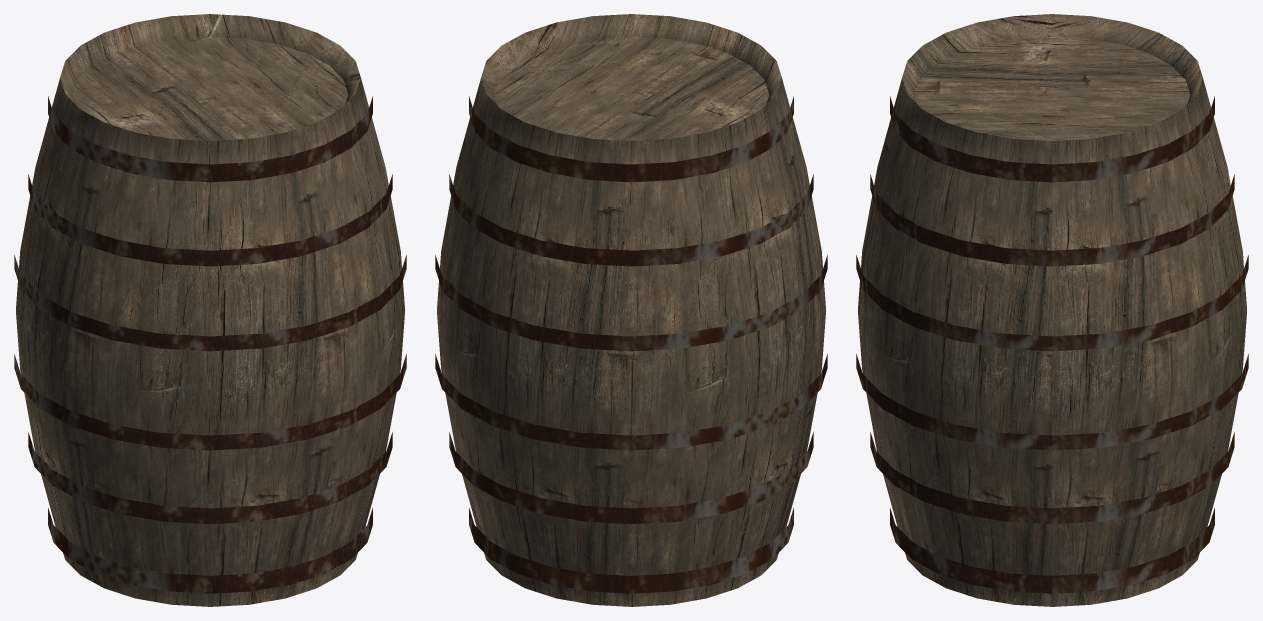
File: wine_barrel.glb
The picture shows the model from 3 angles, left to right: view 1: azimuth 30°, elevation 25°; view 2: azimuth 150°, elevation 25°; view 3: azimuth 270°, elevation 25°; orthographic projection.
Visible parts, largest first — view 1: WineBarrel_Oak, WineBarrel_Hoops; view 2: WineBarrel_Oak, WineBarrel_Hoops; view 3: WineBarrel_Oak, WineBarrel_Hoops.
Boxes of the visible parts, box(x1,y1,x2,y2) form: WineBarrel_Oak: box(16, 14, 404, 606); WineBarrel_Hoops: box(14, 96, 406, 593); WineBarrel_Oak: box(437, 14, 825, 606); WineBarrel_Hoops: box(435, 96, 827, 593); WineBarrel_Oak: box(858, 14, 1246, 606); WineBarrel_Hoops: box(856, 96, 1248, 593).
Size of the model in its own units: 0.718 by 0.94 by 0.718.
Materials: 2 (2 with a texture image).
